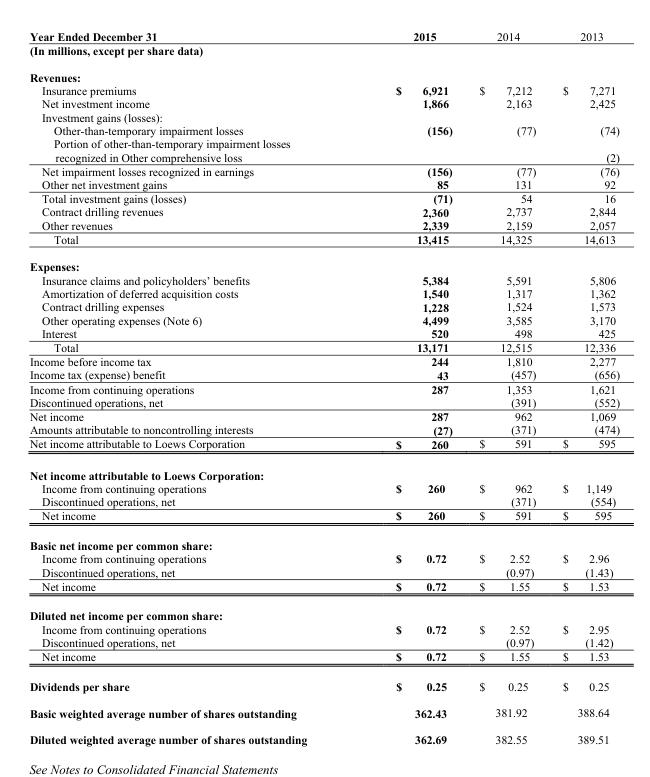table: (28, 29, 619, 745)
table column: (28, 29, 350, 745), (350, 29, 465, 745), (465, 29, 548, 745), (548, 29, 619, 745)
table column header: (28, 29, 619, 43)
table projected row header: (28, 459, 619, 481), (28, 600, 619, 622), (28, 252, 619, 273), (28, 530, 619, 551), (28, 43, 619, 63), (28, 63, 619, 83), (28, 136, 619, 150), (28, 110, 619, 123)
table row: (28, 671, 619, 699), (28, 699, 619, 725), (28, 436, 619, 459), (28, 459, 619, 481), (28, 508, 619, 530), (28, 578, 619, 600), (28, 600, 619, 622), (28, 649, 619, 671), (28, 231, 619, 252), (28, 252, 619, 273), (28, 530, 619, 551), (28, 43, 619, 63), (28, 63, 619, 83), (28, 725, 619, 745), (28, 29, 619, 43), (28, 96, 619, 110), (28, 136, 619, 150), (28, 163, 619, 177), (28, 177, 619, 191), (28, 204, 619, 218), (28, 299, 619, 313), (28, 326, 619, 340), (28, 340, 619, 354), (28, 367, 619, 381), (28, 381, 619, 395), (28, 408, 619, 422), (28, 422, 619, 436), (28, 494, 619, 508), (28, 551, 619, 565), (28, 635, 619, 649), (28, 83, 619, 96), (28, 110, 619, 123), (28, 123, 619, 136), (28, 150, 619, 163), (28, 191, 619, 204), (28, 218, 619, 231), (28, 273, 619, 286), (28, 286, 619, 299), (28, 313, 619, 326), (28, 354, 619, 367), (28, 395, 619, 408), (28, 481, 619, 494), (28, 565, 619, 578), (28, 622, 619, 635)
